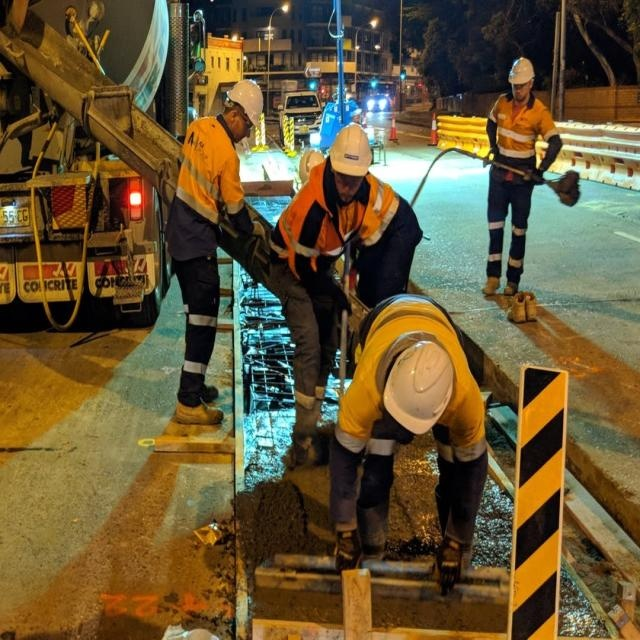Con_Casco: (383, 342, 453, 440), (222, 79, 264, 135), (508, 56, 537, 100)
